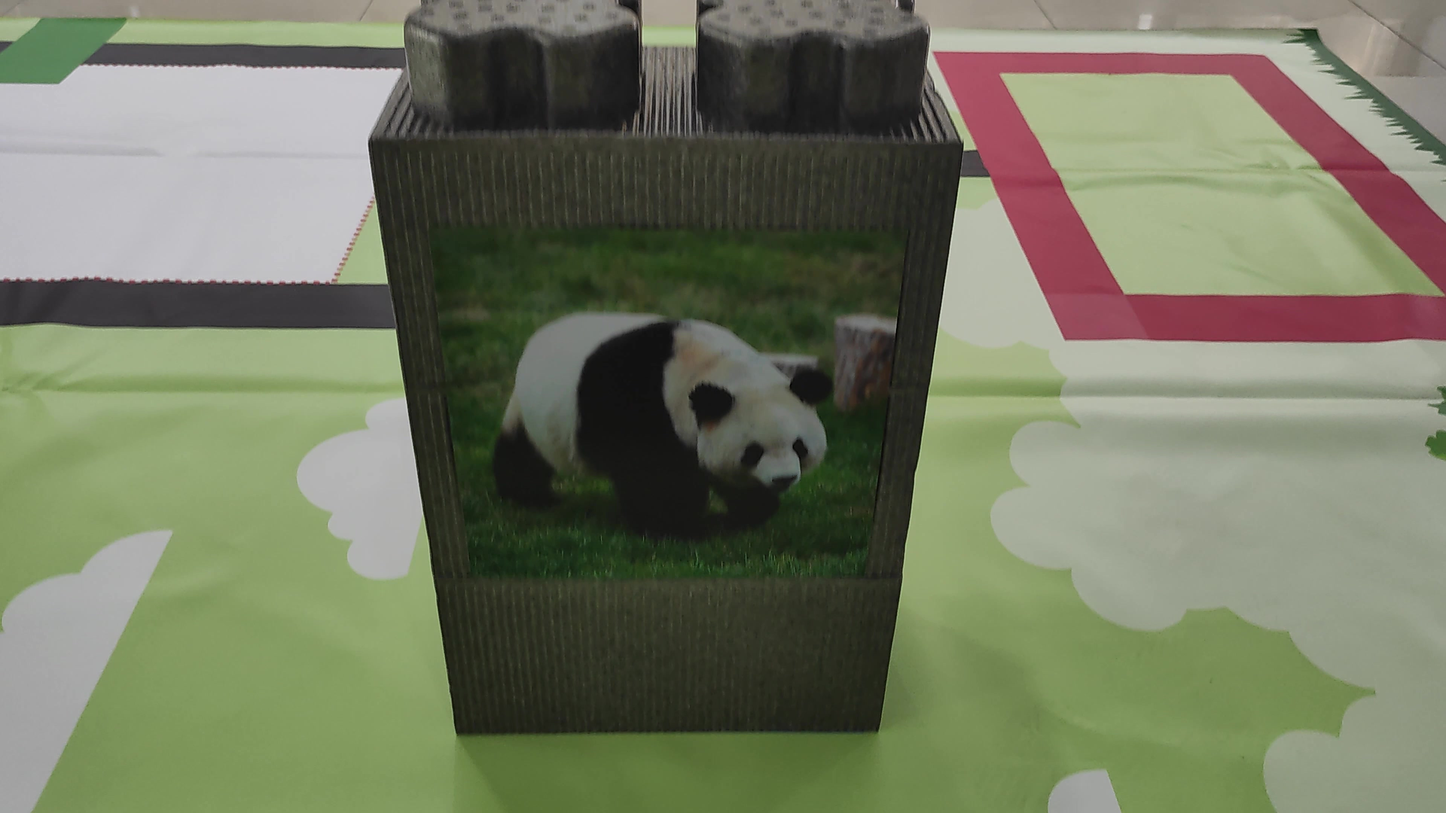panda: (462, 283, 886, 571)
